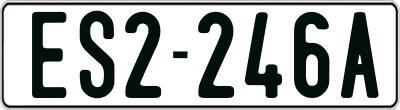2: (195, 10, 237, 100), (123, 12, 164, 101)
4: (242, 11, 285, 97)
6: (292, 10, 330, 97)
A: (340, 9, 382, 100)
E: (29, 9, 66, 98)
S: (77, 8, 116, 100)
